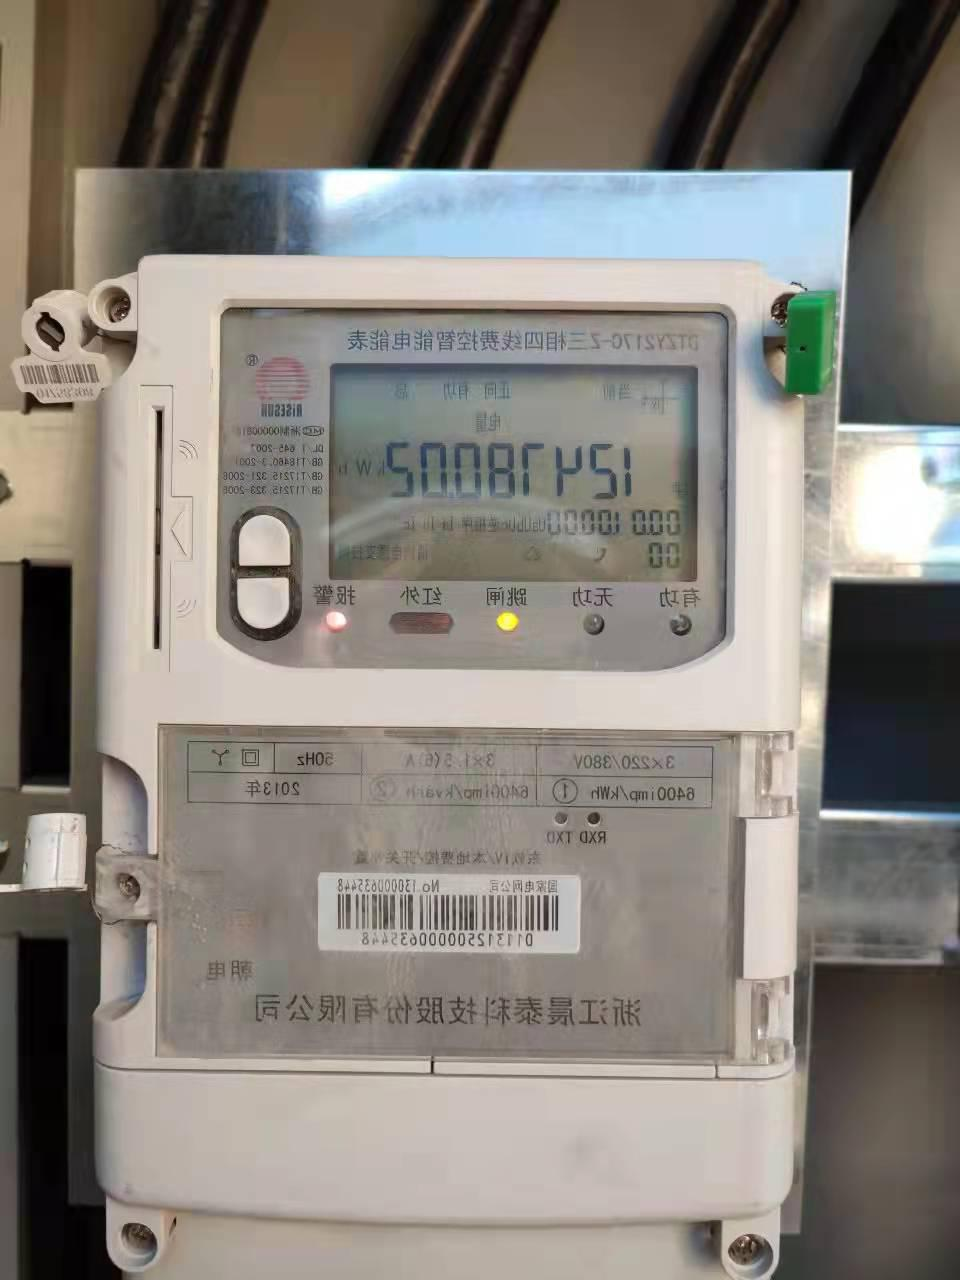digital: (94, 256, 801, 1223)
